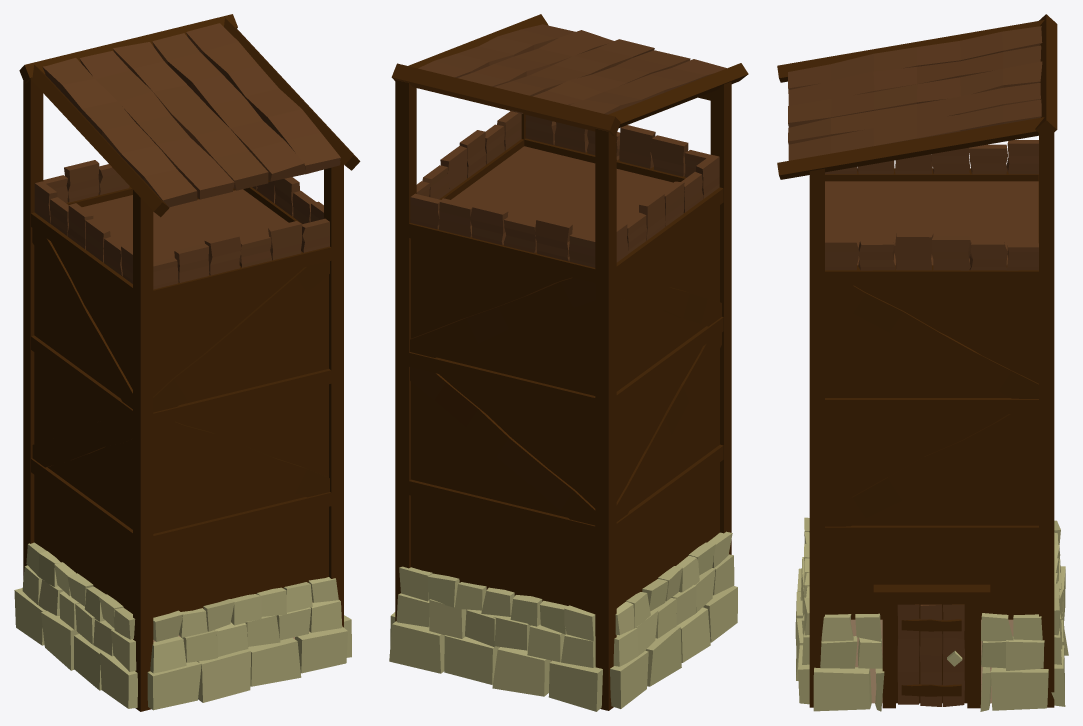
The model's file is Archer'sTower.fbx.
3 views of the same model, side by side, from view 1: azimuth 30°, elevation 25°; view 2: azimuth 150°, elevation 25°; view 3: azimuth 270°, elevation 25° (orthographic). The views are drawn at different scales.
Parts seen in each view (by area): view 1: Building.083; view 2: Building.083; view 3: Building.083.
Part boxes in pixels (left/top/right/bottom): Building.083: left=14, top=14, right=360, bottom=711; Building.083: left=389, top=14, right=748, bottom=711; Building.083: left=777, top=14, right=1068, bottom=711.
Bounding box in the file's own units: 585 × 1379 × 619.
